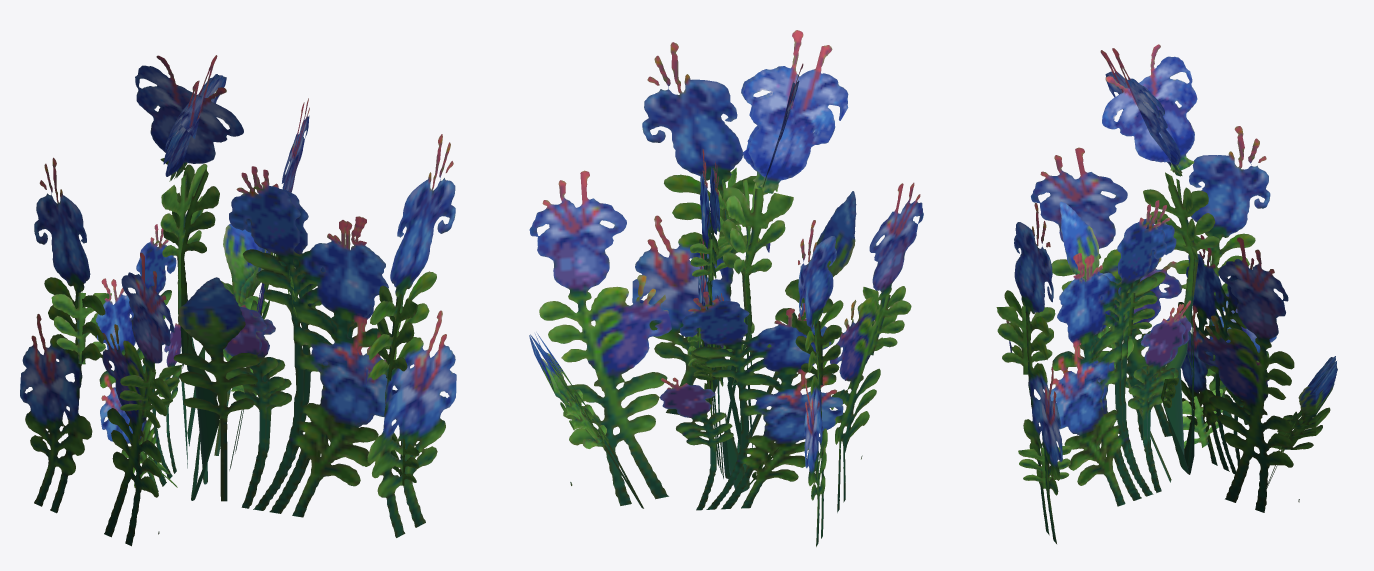
The model's file is zz_hua_2.FBX.
3 renders of one model, left to right at view 1: azimuth 30°, elevation 25°; view 2: azimuth 150°, elevation 25°; view 3: azimuth 270°, elevation 25°, orthographic. The views are drawn at different scales.
Parts seen in each view (by area): view 1: zz_hua_2; view 2: zz_hua_2; view 3: zz_hua_2.
Part boxes in pixels (x1,y1,x2,y2): zz_hua_2: (20,55,456,546); zz_hua_2: (529,30,923,546); zz_hua_2: (996,44,1337,543).
Size of the model in its own units: 98.13 by 141 by 109.
